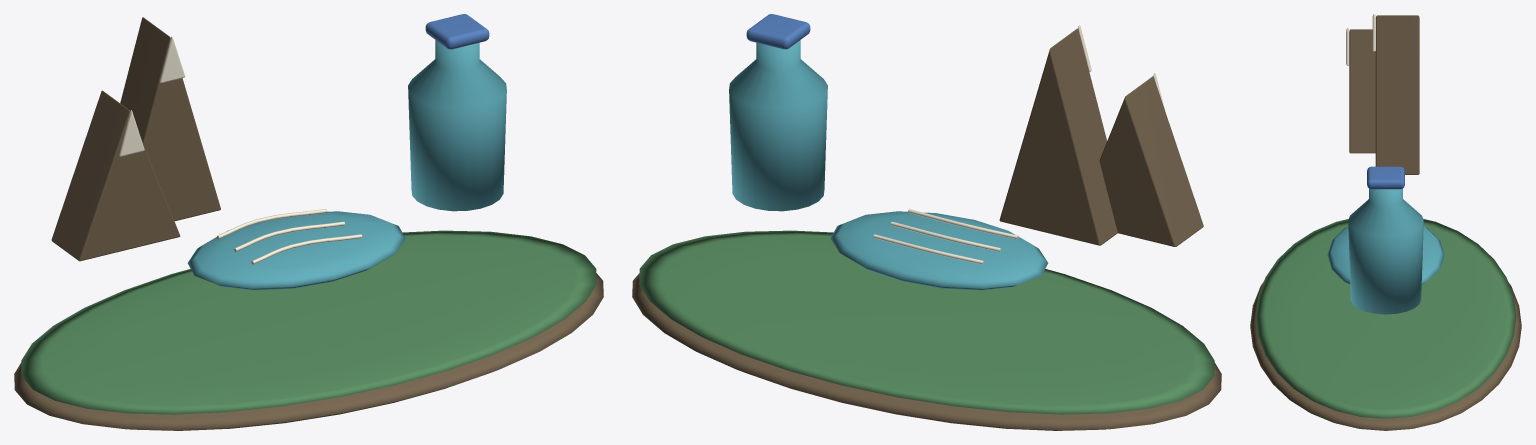
Rendered from mineral-spring-water.glb.
3 views of the same model, side by side, from view 1: azimuth 30°, elevation 25°; view 2: azimuth 150°, elevation 25°; view 3: azimuth 270°, elevation 25° (orthographic). The views are drawn at different scales.
Visible parts, largest first — view 1: mineral-spring-water_surface_01, mineral-spring-water_surface_00, mineral-spring-water_surface_03, mineral-spring-water_surface_02, mineral-spring-water_surface_04; view 2: mineral-spring-water_surface_01, mineral-spring-water_surface_00, mineral-spring-water_surface_03, mineral-spring-water_surface_02, mineral-spring-water_surface_04; view 3: mineral-spring-water_surface_01, mineral-spring-water_surface_00, mineral-spring-water_surface_03, mineral-spring-water_surface_04, mineral-spring-water_surface_02.
Part boxes in pixels (x1,y1,x2,y2): mineral-spring-water_surface_01: (21,230,596,414); mineral-spring-water_surface_00: (14,17,603,430); mineral-spring-water_surface_03: (187,40,506,290); mineral-spring-water_surface_02: (119,36,362,264); mineral-spring-water_surface_04: (425,14,489,49); mineral-spring-water_surface_01: (639,230,1214,414); mineral-spring-water_surface_00: (632,28,1221,430); mineral-spring-water_surface_03: (729,40,1048,290); mineral-spring-water_surface_02: (873,25,1164,264); mineral-spring-water_surface_04: (746,14,810,49); mineral-spring-water_surface_01: (1255,219,1516,418); mineral-spring-water_surface_00: (1250,15,1521,430); mineral-spring-water_surface_03: (1327,188,1444,314); mineral-spring-water_surface_04: (1367,166,1404,189); mineral-spring-water_surface_02: (1346,14,1375,65).
Size of the model in its own units: 4.56 by 2.76 by 2.5.
